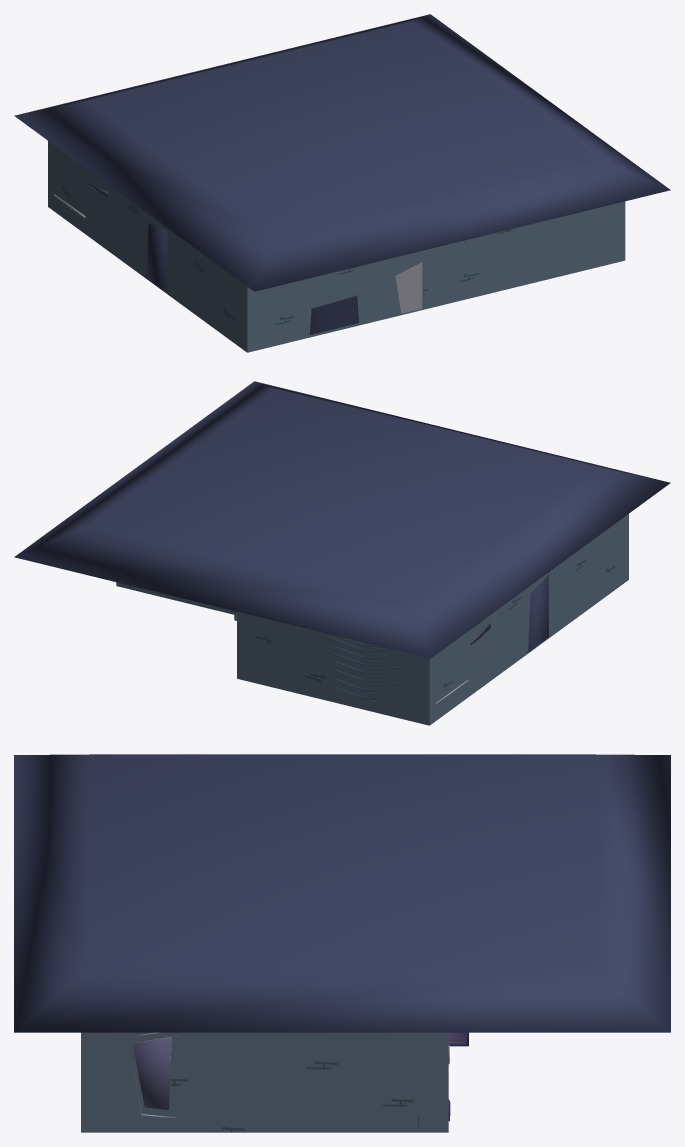
Rendered from EscenarioJuegosininteractuablesF (1).fbx.
3 renders of one model, top to bottom at view 1: azimuth 30°, elevation 25°; view 2: azimuth 150°, elevation 25°; view 3: azimuth 270°, elevation 25°, orthographic. The views are drawn at different scales.
Parts seen in each view (by area): view 1: Plane.001, Cube.002, estante_base, nevera_base, Cube.003; view 2: Plane.001, Cube.002, nevera_base, armario_madera.007; view 3: Plane.001, Cube.002, espejo.002.
Part boxes in pixels (x1=…): Plane.001: x1=14, y1=14, x2=670, y2=291; Cube.002: x1=48, y1=141, x2=625, y2=352; estante_base: x1=309, y1=295, x2=358, y2=334; nevera_base: x1=146, y1=223, x2=167, y2=292; Cube.003: x1=395, y1=262, x2=422, y2=313; Plane.001: x1=14, y1=381, x2=670, y2=658; Cube.002: x1=116, y1=514, x2=628, y2=725; nevera_base: x1=528, y1=574, x2=548, y2=652; armario_madera.007: x1=328, y1=635, x2=407, y2=702; Plane.001: x1=14, y1=754, x2=670, y2=1032; Cube.002: x1=81, y1=1032, x2=448, y2=1132; espejo.002: x1=129, y1=1032, x2=176, y2=1118.
Bounding box in the file's own units: 6930 × 1752 × 6930.
Materials: 14 (14 with a texture image).
